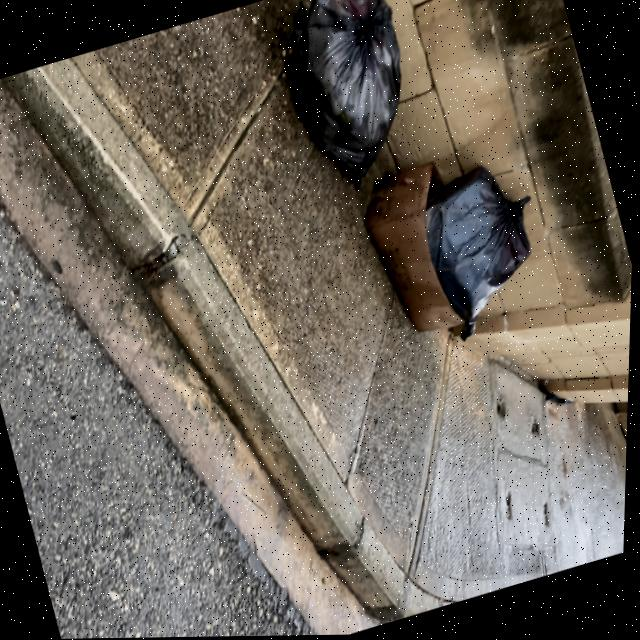Mixed Waste -Black Bag-: (268, 1, 435, 200), (410, 157, 552, 332)
